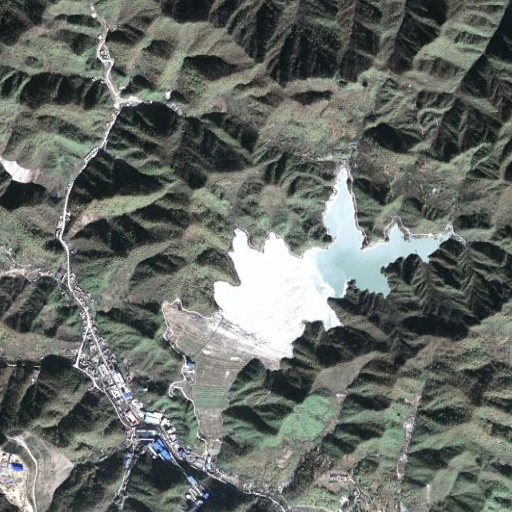tp: (161, 166, 451, 442)
